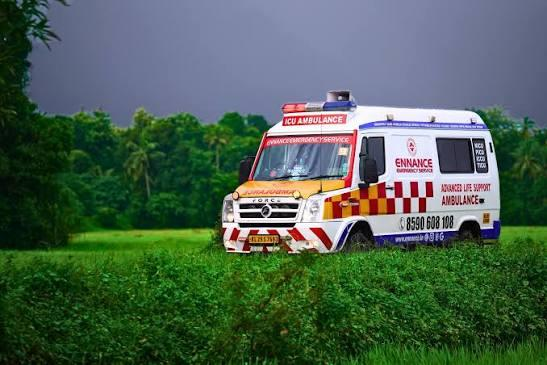ambulance: (216, 91, 500, 255)
